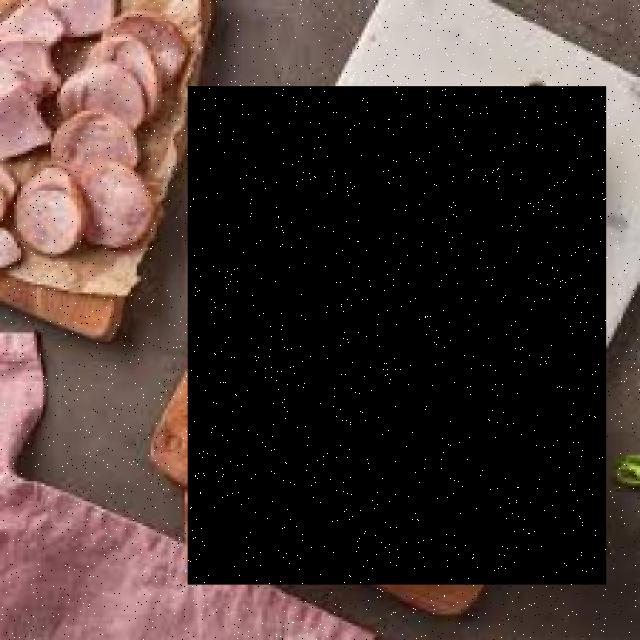Ham: (188, 86, 606, 585)
